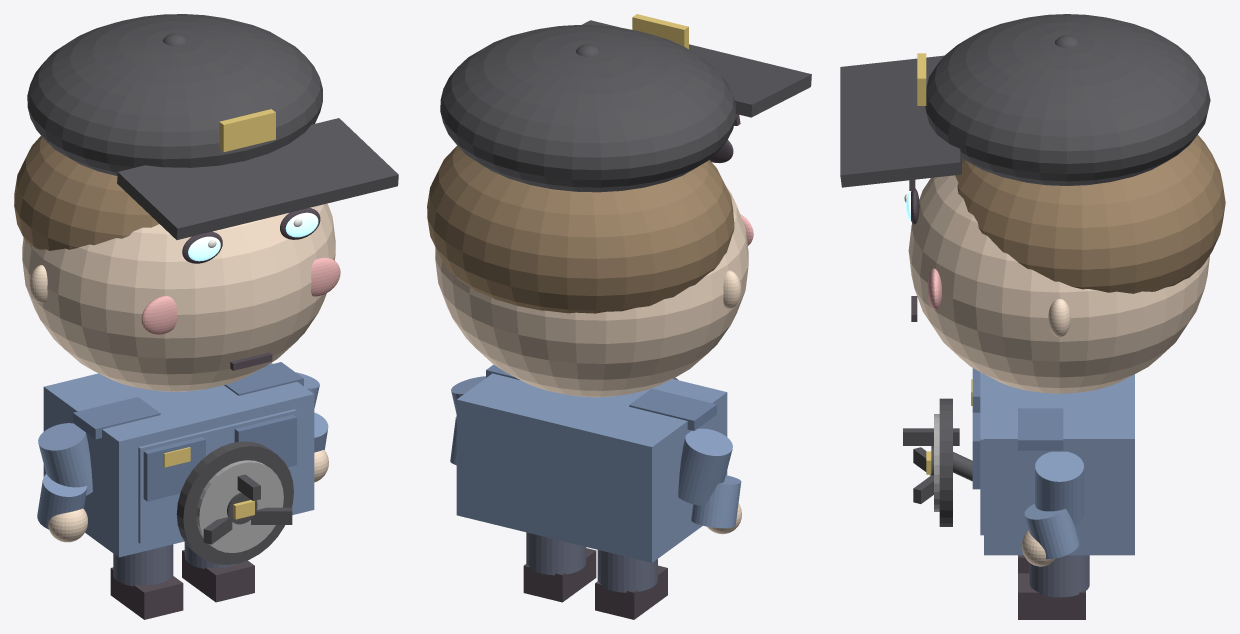
The model's file is trucker.glb.
3 views of the same model, side by side, from view 1: azimuth 30°, elevation 25°; view 2: azimuth 150°, elevation 25°; view 3: azimuth 270°, elevation 25° (orthographic).
Visible parts, largest first — view 1: Head, CapDome, Coat, CapBrim, HairCap, WheelRim, WheelInner, CoatFront, UpperArm_L, ChestPocket_L, Shoe_L, Shoe_R (+14 smaller); view 2: CapDome, HairCap, Coat, Head, CapBrim, UpperArm_L, Leg_L, Leg_R, Shoe_R, Shoe_L, Epaulet_L, Forearm_L (+2 smaller); view 3: CapDome, Head, HairCap, Coat, CapBrim, UpperArm_R, Leg_R, Forearm_R, Shoe_R, Epaulet_R, WheelRim, Ear_R (+6 smaller).
Boxes of the visible parts, x1,y1,x2,y2 form: Head: (22,203,335,391); CapDome: (27,14,322,175); Coat: (43,363,314,557); CapBrim: (117,118,398,239); HairCap: (14,136,158,250); WheelRim: (176,441,293,564); WheelInner: (196,460,283,552); CoatFront: (138,409,296,543); UpperArm_L: (38,423,92,495); ChestPocket_L: (143,437,205,501); Shoe_L: (110,567,183,619); Shoe_R: (182,550,254,602); CapDome: (440,25,736,192); HairCap: (427,145,734,313); Coat: (456,373,727,562); Head: (435,186,748,397); CapBrim: (582,20,811,117); UpperArm_L: (678,428,732,505); Leg_L: (597,550,657,592); Leg_R: (526,532,586,575); Shoe_R: (523,548,596,602); Shoe_L: (595,565,667,619); Epaulet_L: (629,388,716,430); Forearm_L: (691,475,741,528); CapDome: (925,14,1210,185); Head: (908,175,1209,393); HairCap: (955,135,1225,293); Coat: (984,374,1134,555); CapBrim: (840,55,961,187); UpperArm_R: (1035,451,1083,525); Leg_R: (1029,555,1089,597); Forearm_R: (1024,503,1079,559); Shoe_R: (1018,573,1085,619); Epaulet_R: (1018,408,1063,450); WheelRim: (939,398,952,526); Ear_R: (1048,299,1070,337).
Bounding box in the file's own units: 1.12 × 2 × 1.26.
